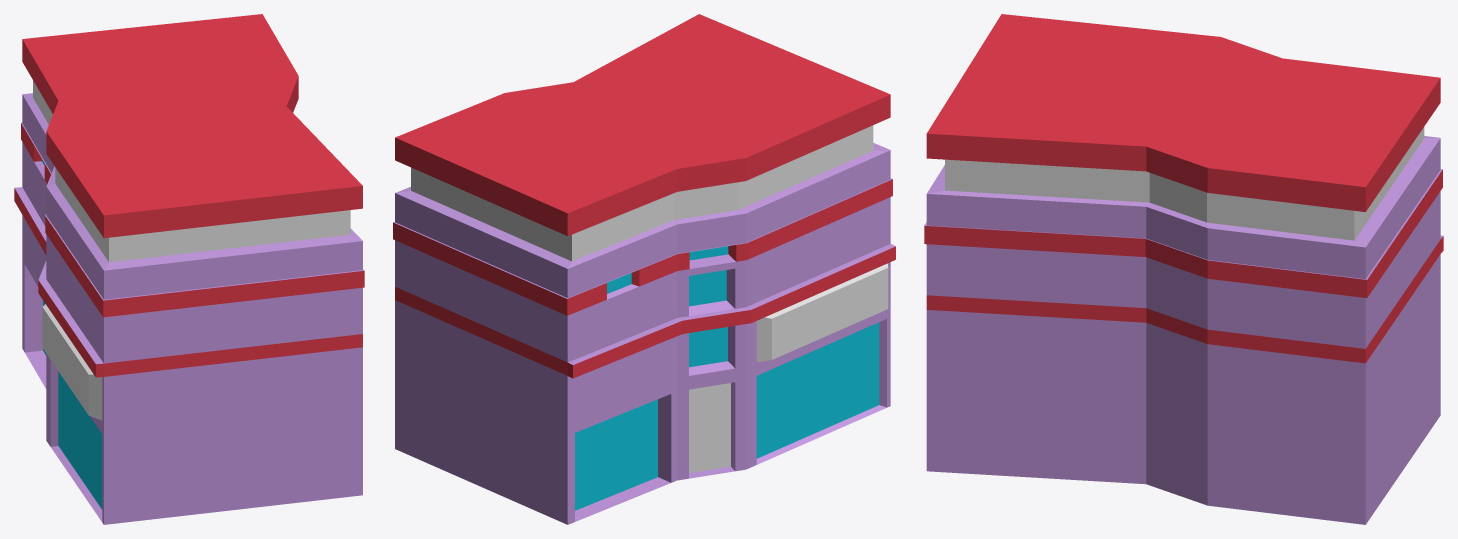
Rendered from FBX_SD_mShop3.fbx.
The picture shows the model from 3 angles, left to right: view 1: azimuth 30°, elevation 25°; view 2: azimuth 150°, elevation 25°; view 3: azimuth 270°, elevation 25°; orthographic projection. The views are drawn at different scales.
Parts seen in each view (by area): view 1: FBX_SD_mShop3; view 2: FBX_SD_mShop3; view 3: FBX_SD_mShop3.
Part boxes in pixels (box(x1,y1,x2,y2)): FBX_SD_mShop3: box(14, 14, 364, 524); FBX_SD_mShop3: box(393, 14, 895, 524); FBX_SD_mShop3: box(924, 14, 1443, 524).
Size of the model in its own units: 1014 by 899 by 1254.
